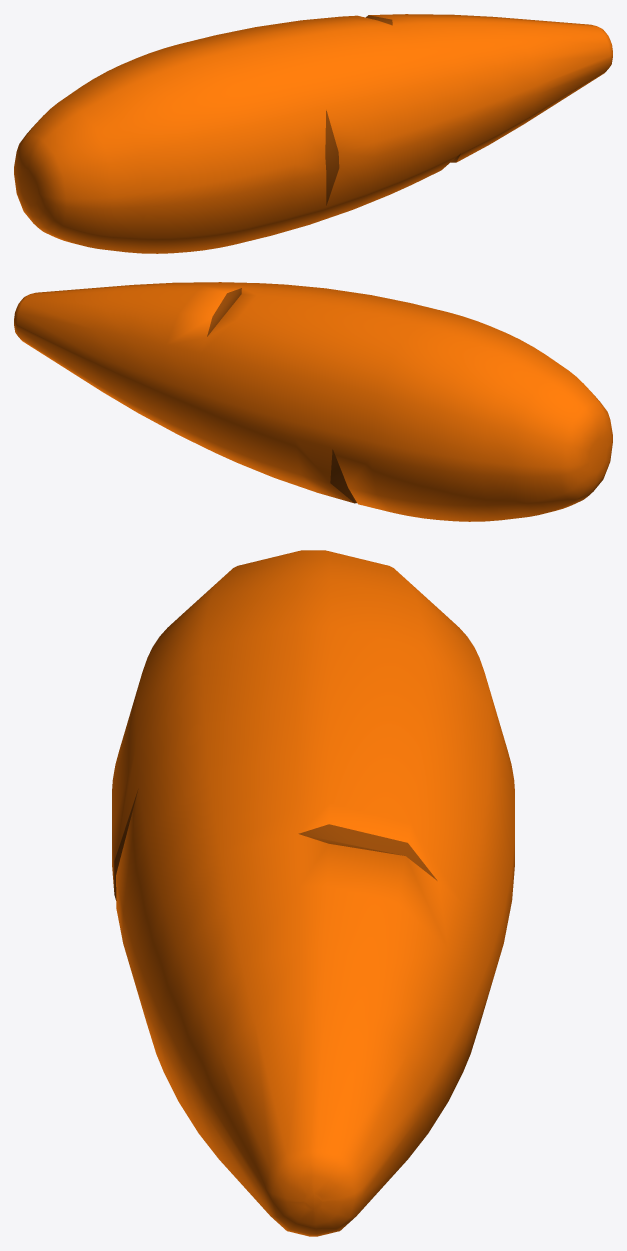
Rendered from carrot.glb.
The picture shows the model from 3 angles, top to bottom: view 1: azimuth 30°, elevation 25°; view 2: azimuth 150°, elevation 25°; view 3: azimuth 270°, elevation 25°; orthographic projection. The views are drawn at different scales.
Visible parts, largest first — view 1: Cube; view 2: Cube; view 3: Cube.
Boxes of the visible parts, x1,y1,x2,y2 form: Cube: (14, 14, 612, 253); Cube: (14, 282, 612, 521); Cube: (112, 550, 514, 1236).
Bounding box in the file's own units: 2.23 × 0.6731 × 0.6731.
